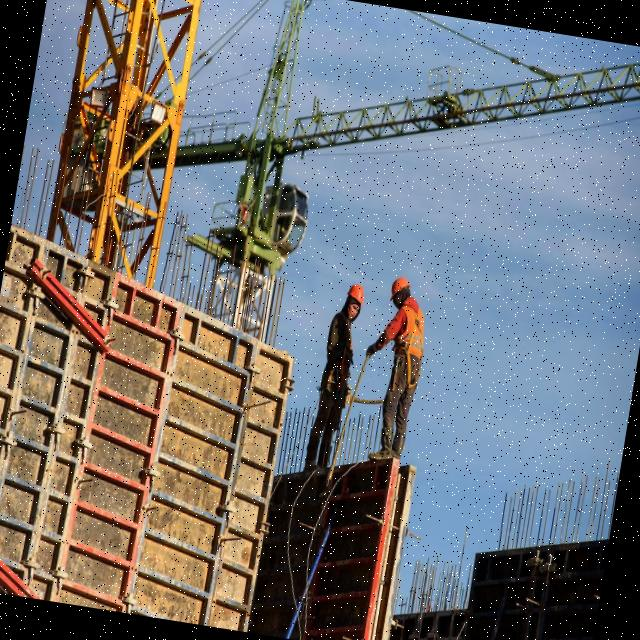Helmet: (390, 276, 412, 306), (346, 284, 367, 310)
Jacket: (390, 300, 430, 373)
NoJacket: (323, 312, 358, 400)
